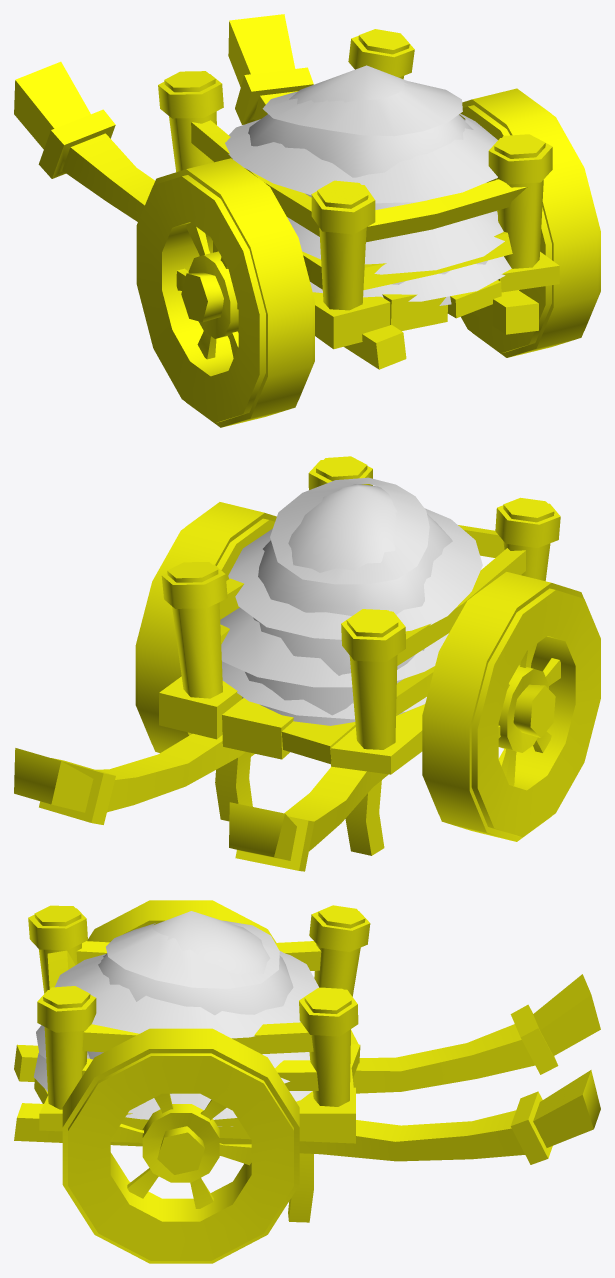
The model's file is SM_PROP_cart_03.glb.
3 renders of one model, top to bottom at view 1: azimuth 30°, elevation 25°; view 2: azimuth 150°, elevation 25°; view 3: azimuth 270°, elevation 25°, orthographic. The views are drawn at different scales.
Visible parts, largest first — view 1: SM_PROP_cart_03, SM_PROP_cart_wheel_big_R_03, SM_PROP_cart_wheel_big_L_03; view 2: SM_PROP_cart_03, SM_PROP_cart_wheel_big_R_03, SM_PROP_cart_wheel_big_L_03; view 3: SM_PROP_cart_03, SM_PROP_cart_wheel_big_L_03, SM_PROP_cart_wheel_big_R_03.
Boxes of the visible parts, x1,y1,x2,y2 form: SM_PROP_cart_03: (14, 14, 559, 369); SM_PROP_cart_wheel_big_R_03: (136, 158, 314, 427); SM_PROP_cart_wheel_big_L_03: (459, 88, 600, 357); SM_PROP_cart_03: (14, 456, 560, 871); SM_PROP_cart_wheel_big_R_03: (422, 572, 600, 841); SM_PROP_cart_wheel_big_L_03: (135, 502, 276, 756); SM_PROP_cart_03: (14, 905, 600, 1222); SM_PROP_cart_wheel_big_L_03: (62, 1028, 299, 1263); SM_PROP_cart_wheel_big_R_03: (87, 900, 276, 942).
Size of the model in its own units: 2.75 by 2.31 by 4.38.
Materials: 4 (3 with a texture image).
